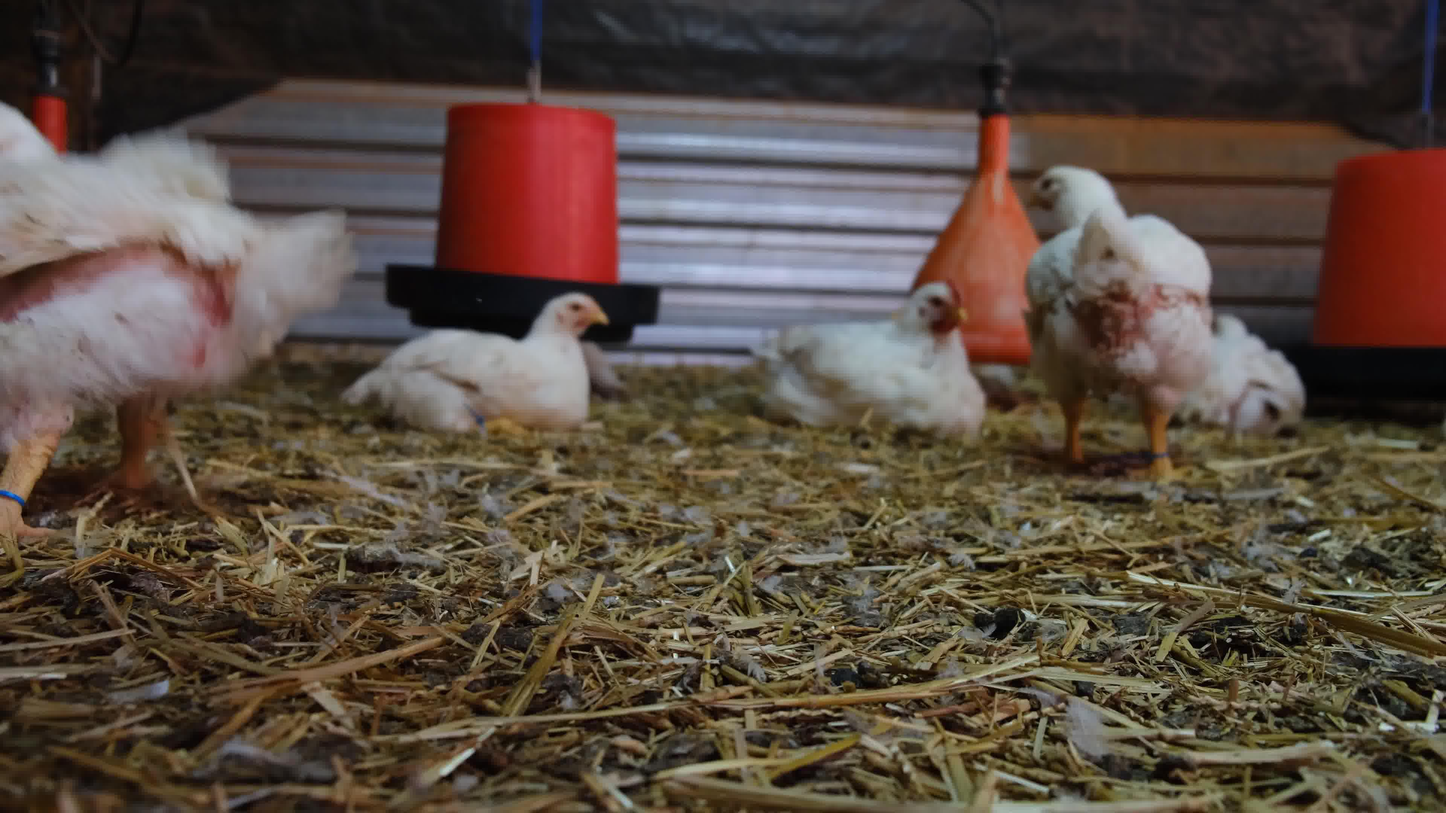AbNormal: (344, 292, 610, 438), (745, 279, 991, 428), (1183, 313, 1315, 445)
Normal: (0, 87, 353, 565), (1017, 162, 1216, 491)
